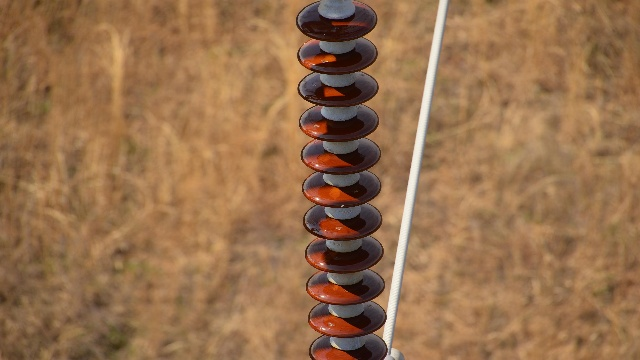insulator_unspecified: (295, 3, 390, 359)
pollution_flashover_local: (328, 183, 342, 201), (317, 152, 332, 164)
